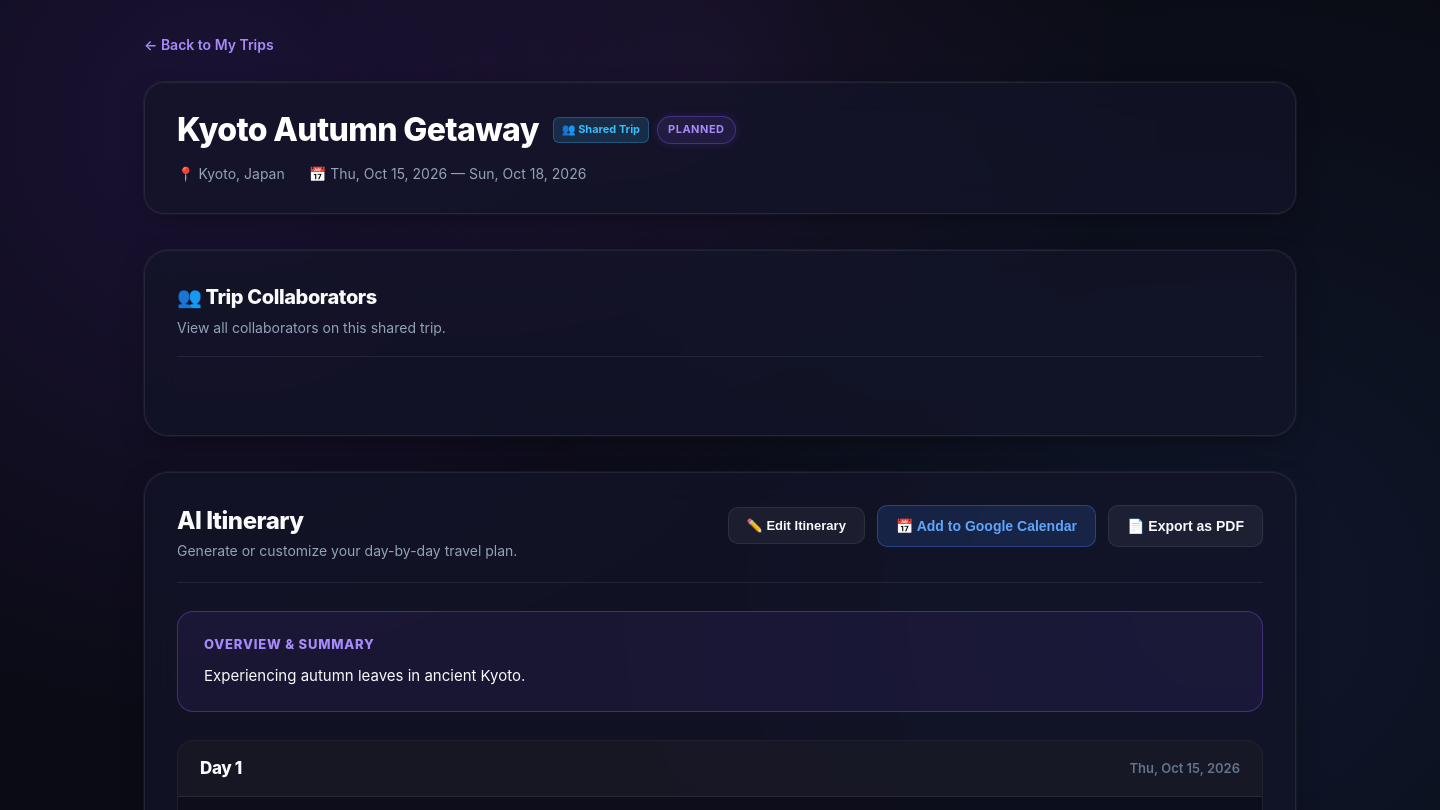
Test: TripDetailsPage User-Editable Itinerary › enters edit mode when 'Edit Itinerary' is clicked and renders form controls
Step 1. Click the button with test id "edit-itinerary-btn" → {"x": 796, "y": 526}, box top-left (728, 507), bottom-right (865, 544)
(page scrolled)
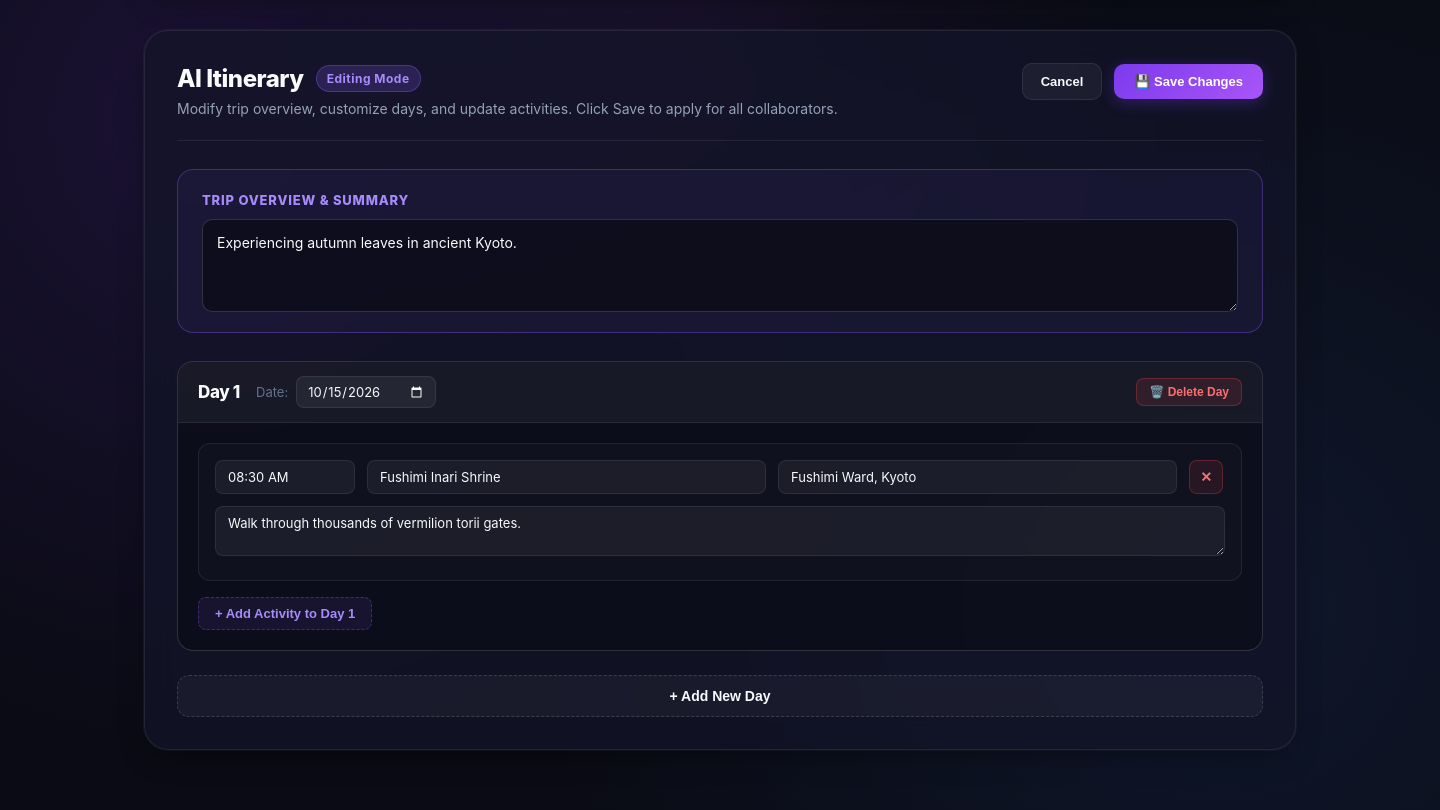
Result: the text "Editing Mode" is shown at top-left (316, 65), bottom-right (421, 92)
Result: the button with test id "save-itinerary-btn" is shown at top-left (1114, 64), bottom-right (1263, 99)
Result: the button with test id "cancel-edit-itinerary-btn" is shown at top-left (1022, 63), bottom-right (1102, 100)
